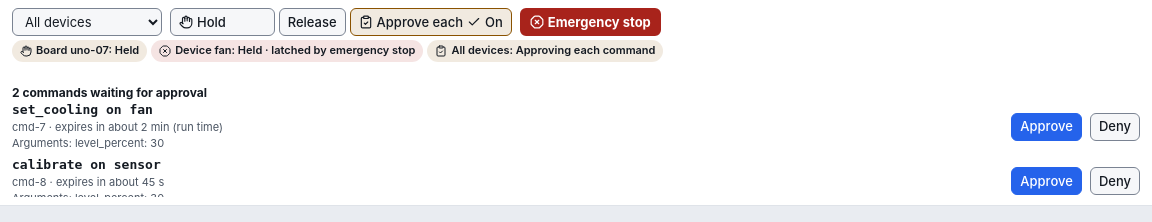
Test case: the interrupt controls on the live screen › sends the emergency stop in one press and says what it stopped and that the scope stays held
The width and height of the screenshot is (1152, 222).
Click the button "Emergency stop" at (590,22), box left=520, top=8, right=661, bottom=36
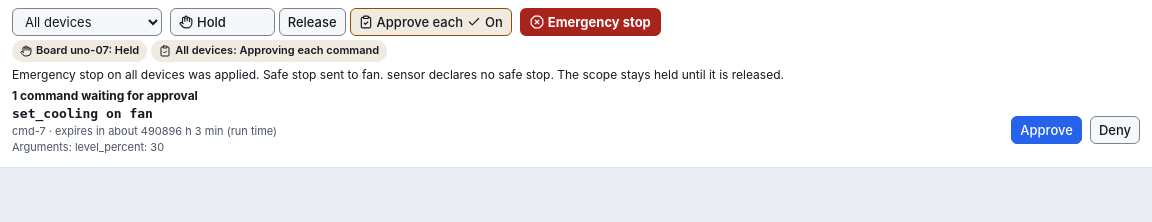
Expected: the text "Safe stop sent to fan. sensor declares no safe stop." is shown, left=12, top=67, right=784, bottom=82
